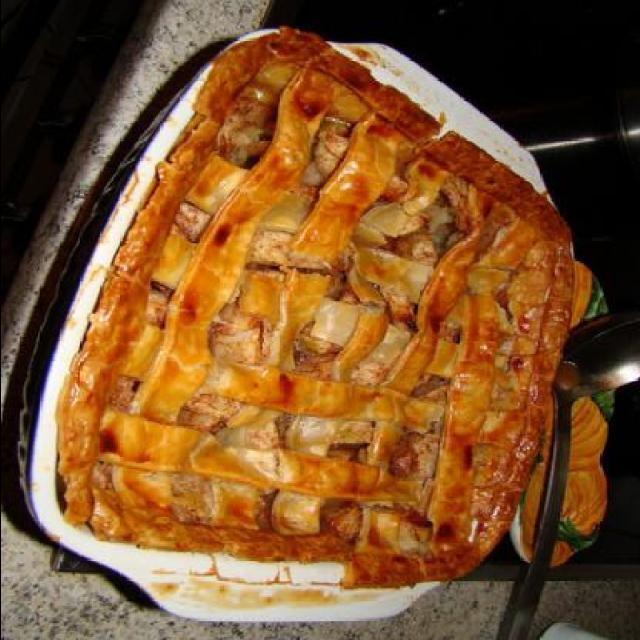Apple: (66, 99, 566, 563)
